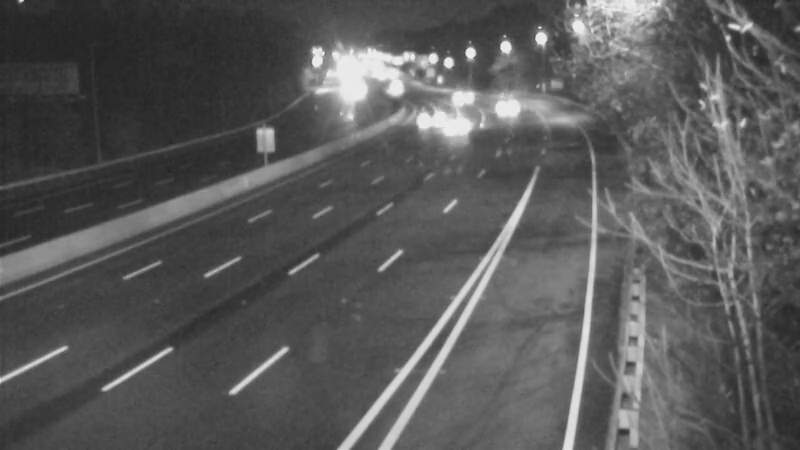vehicle: (433, 95, 483, 145), (401, 88, 451, 138), (479, 78, 529, 128), (434, 67, 484, 117)
